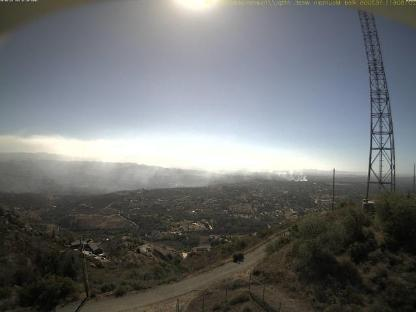smoke: (126, 167, 308, 189)
